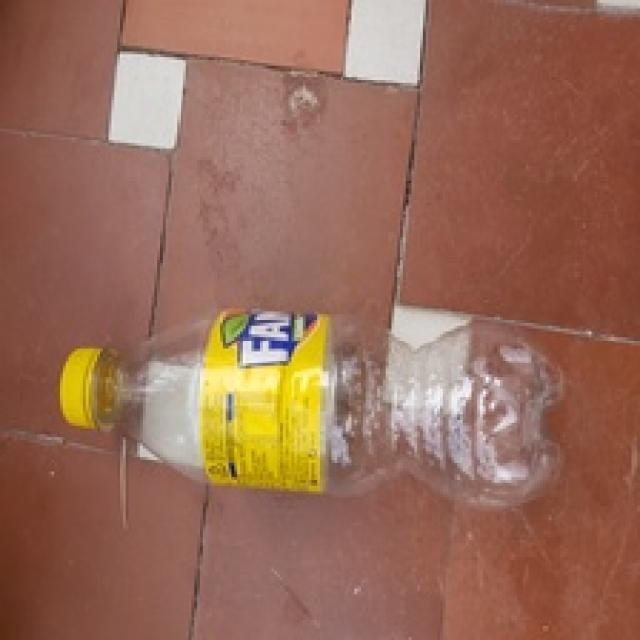Plastic: (57, 305, 570, 507)
